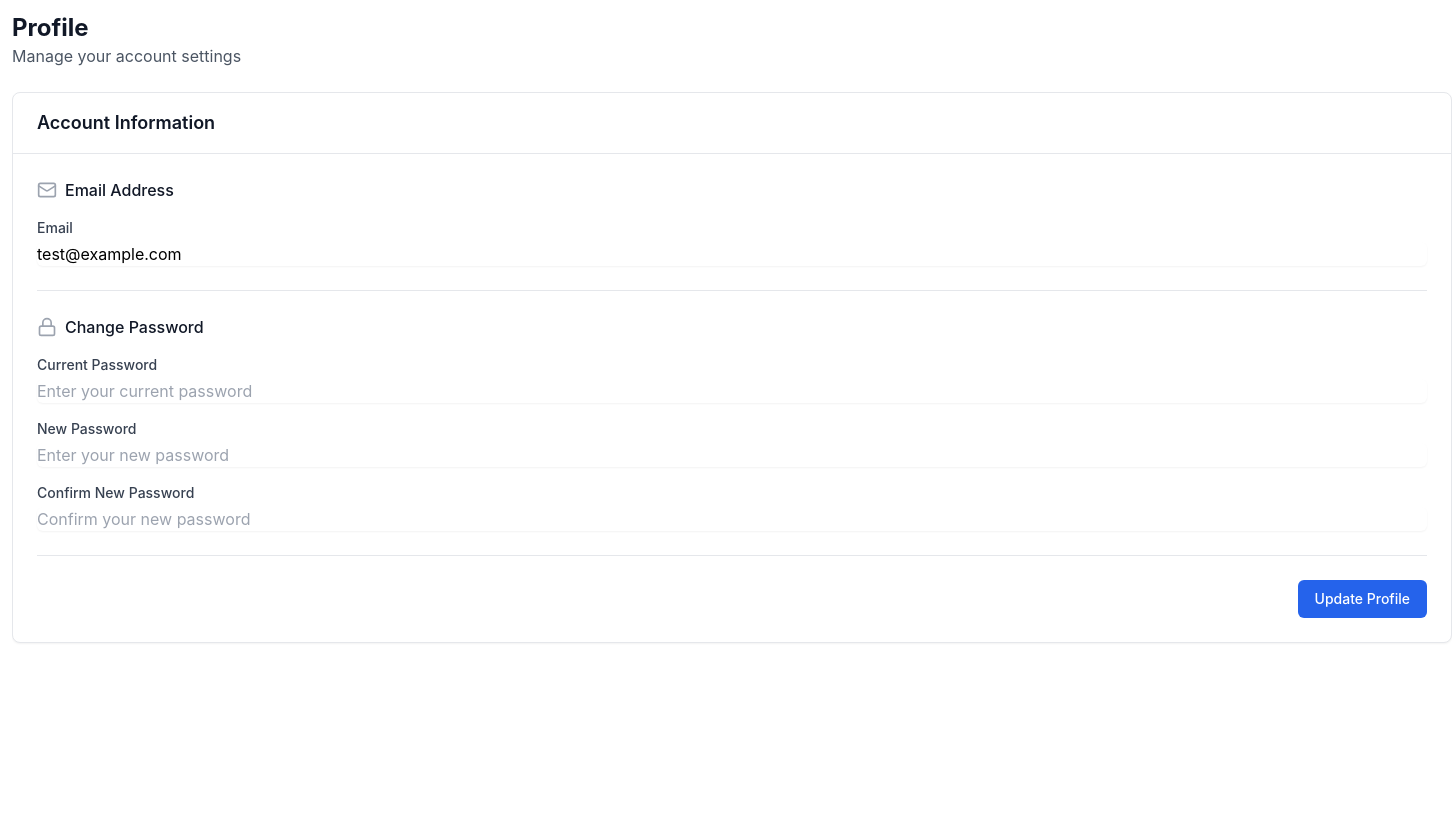
Test: Profile Component › validates password confirmation
This screenshot has width=1452, height=822.
In the password field labelled "Current Password": (732, 391) [37, 379, 1427, 403], type "currentpass"
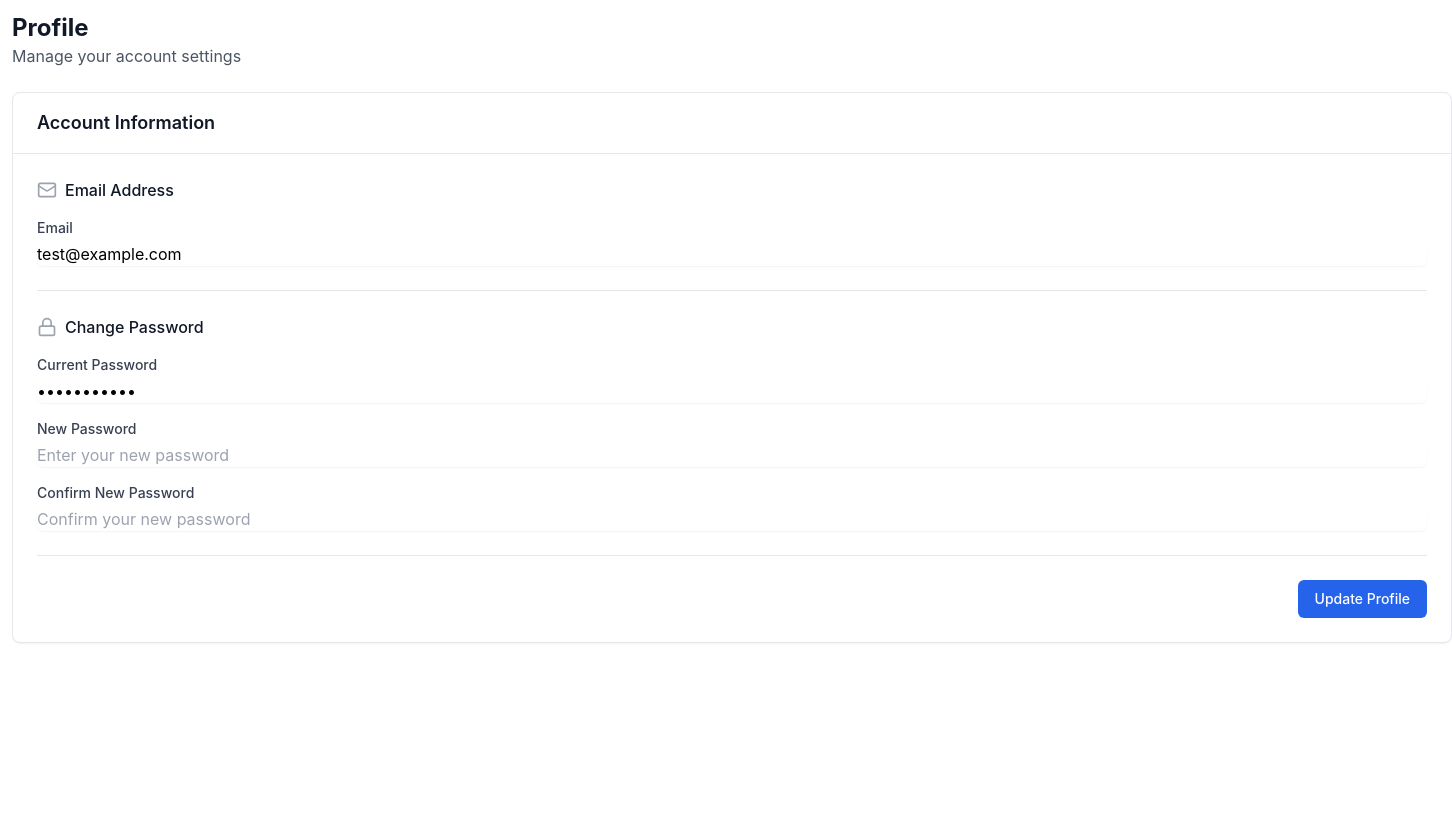
In the password field labelled "New Password": (732, 455) [37, 443, 1427, 467], type "newpass"
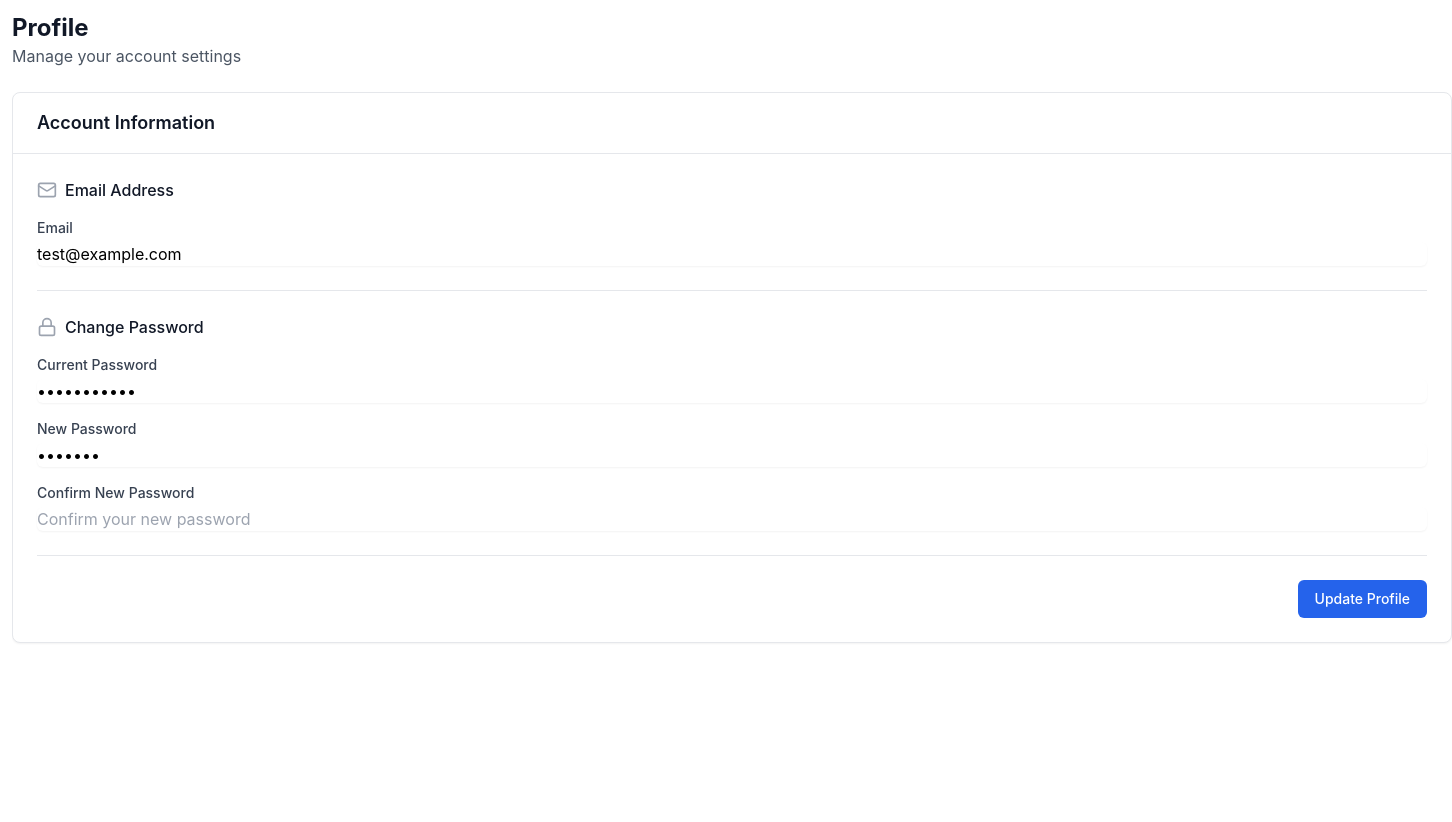
In the password field labelled "Confirm New Password": (732, 519) [37, 507, 1427, 531], type "differentpass"
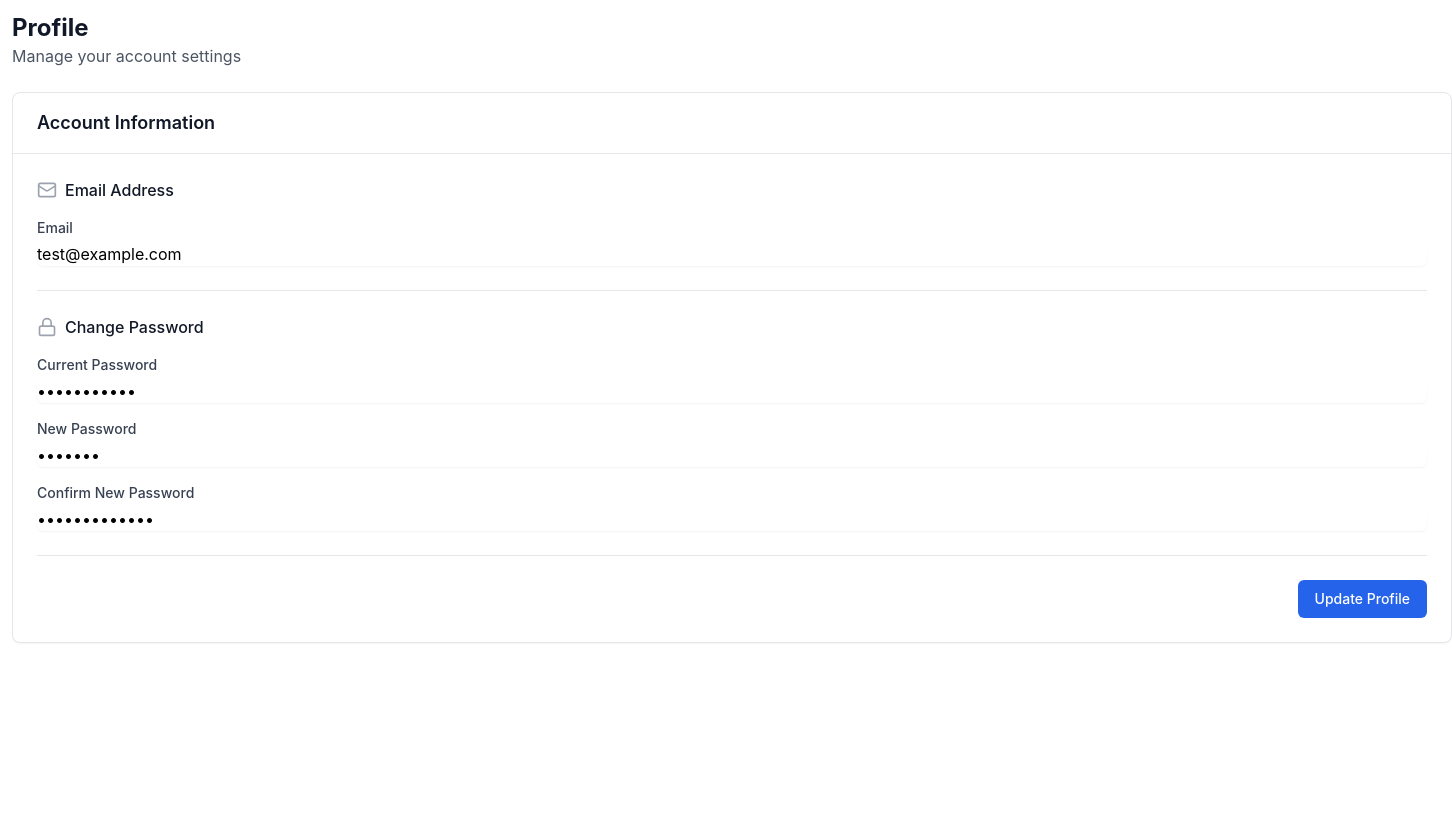
Click the button "Update Profile": (1362, 599) [1298, 580, 1427, 618]
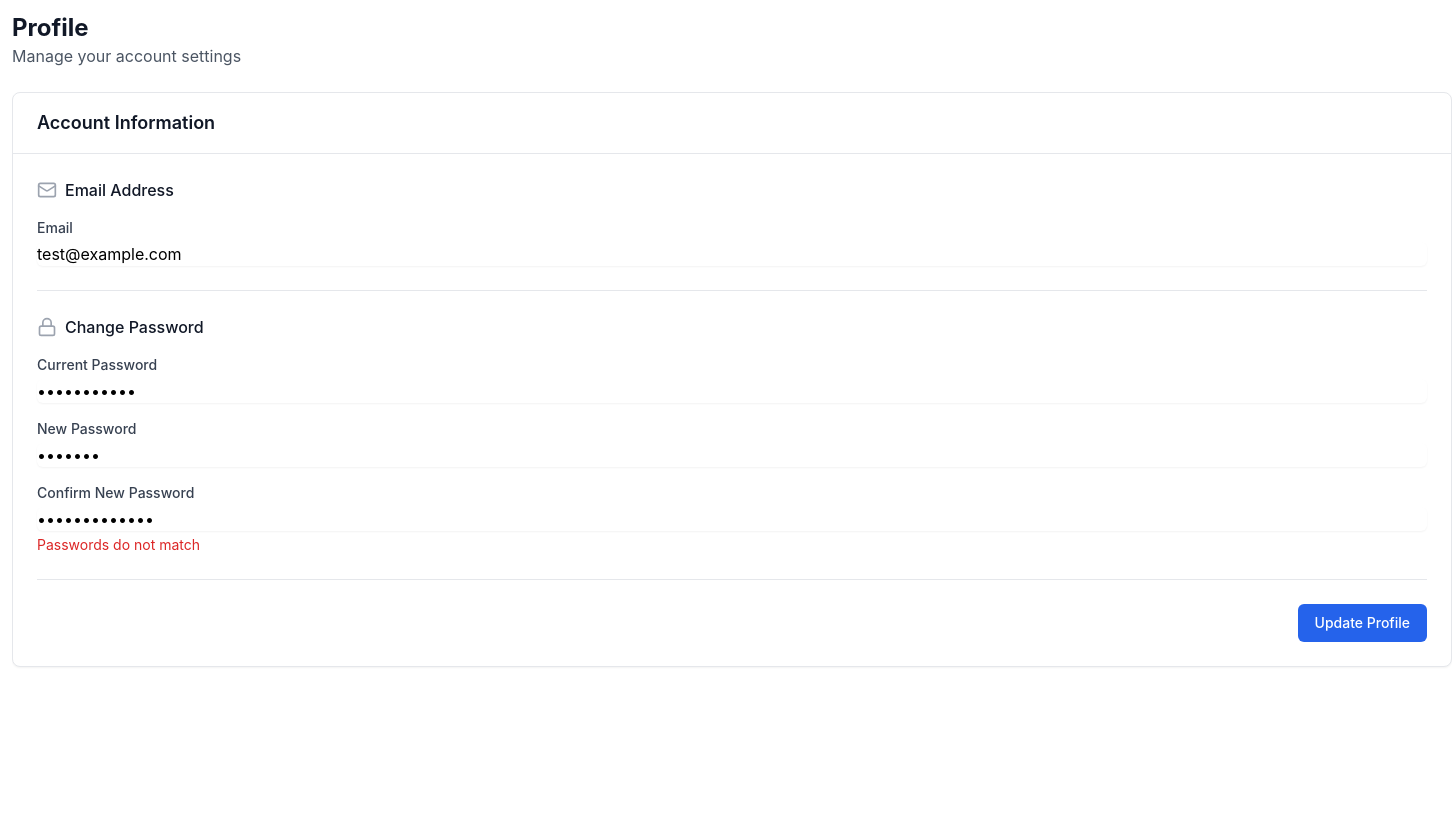
Now the text "Passwords do not match" is shown, box [37, 536, 200, 553]
